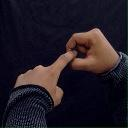hand: (13, 48, 78, 107), (65, 27, 119, 74)
